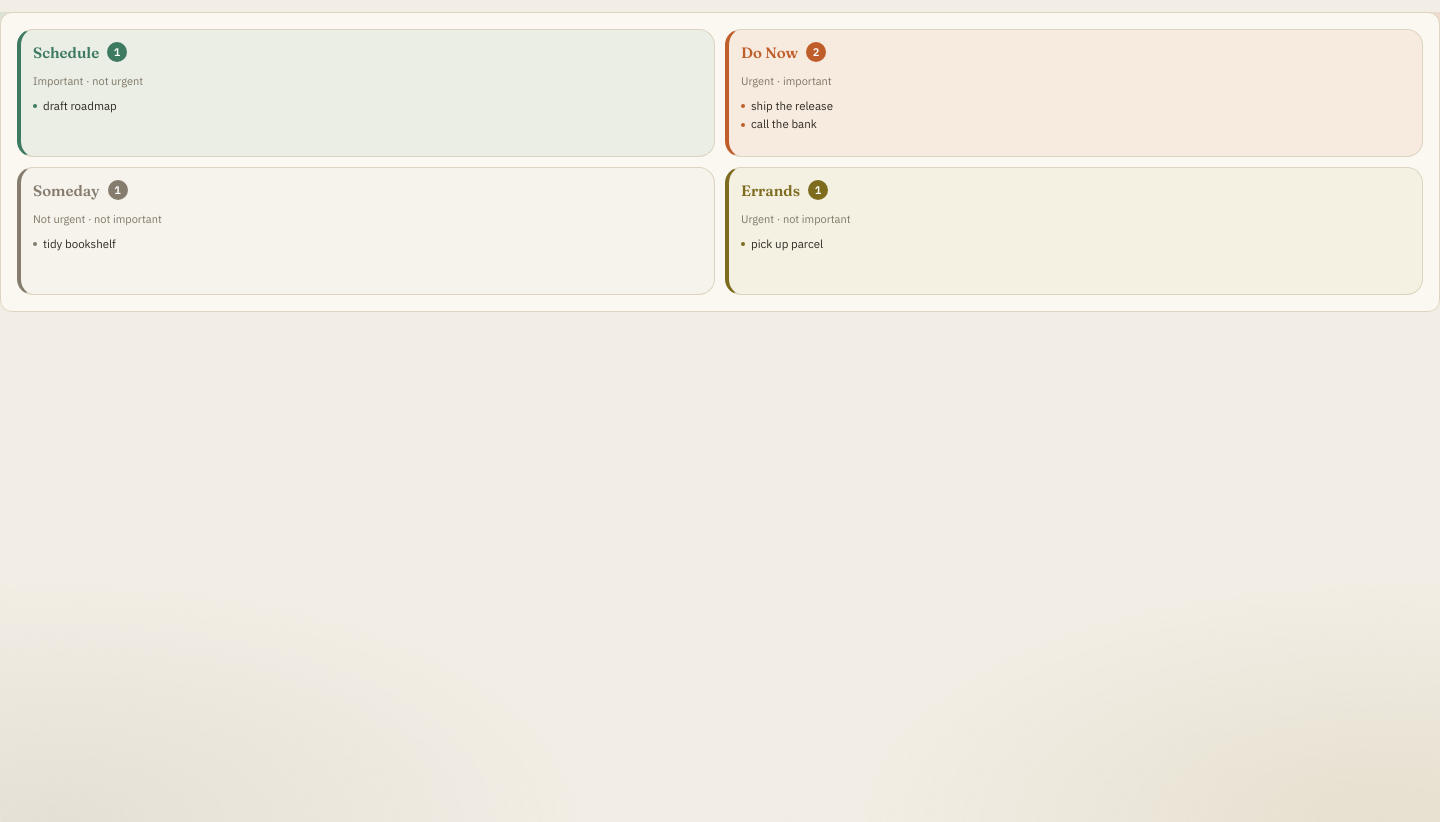
Test: MobileMatrix › the pager switches the focused quadrant without returning to the overview
The image size is (1440, 822).
Step 1. Click the button with aria-label "Schedule, 1 task" → (66, 52), box [17,29,715,157]
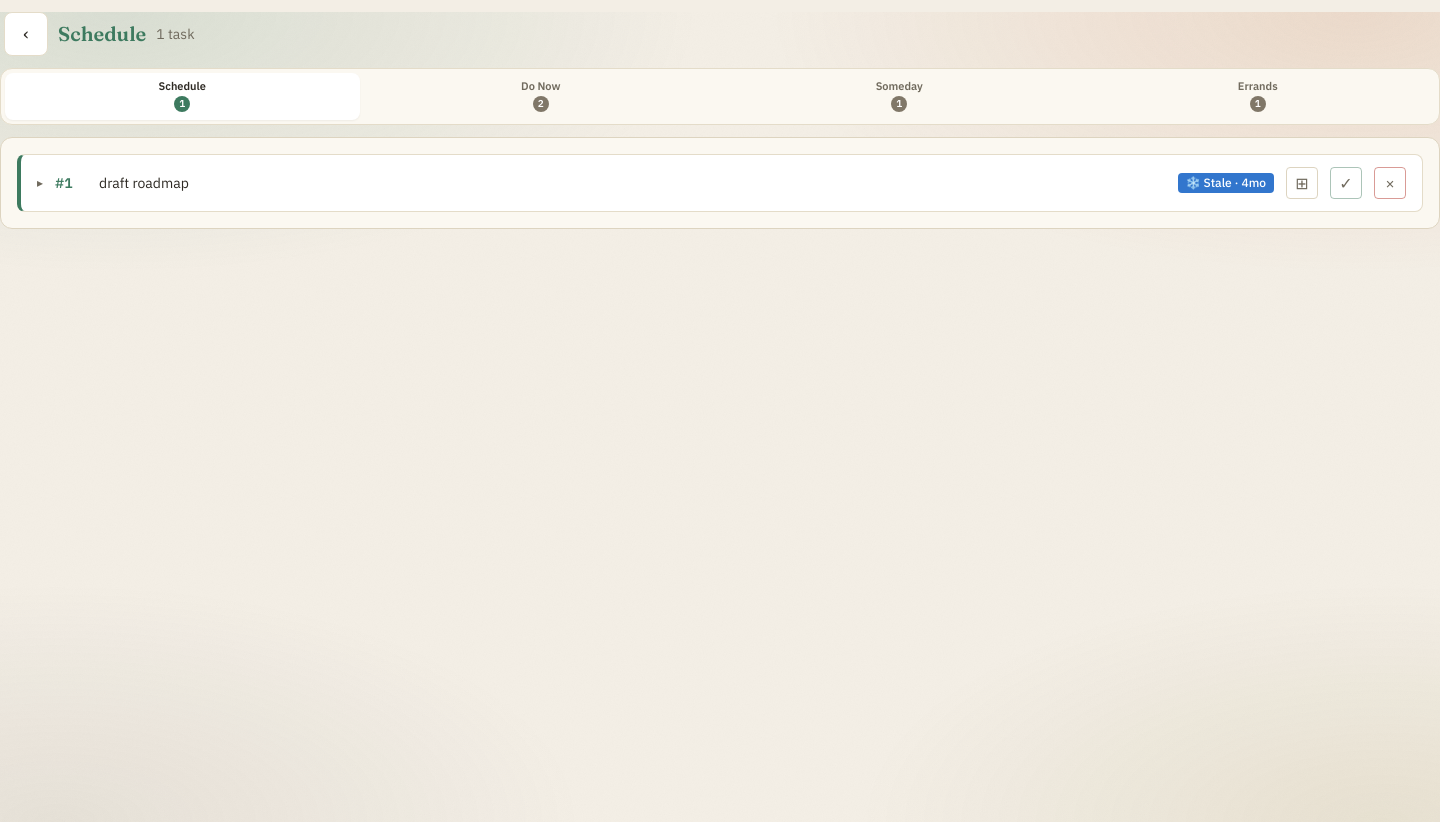
expect the button "▸ #1 draft roadmap ❄️ Stale · 4mo" is shown: met, box [37,173,1274,193]
The pager (nav "Quadrants") lets you jump straight to Errands.
Step 2. Click the button "Errands 1" → (1258, 96), box [1080,73,1435,120]
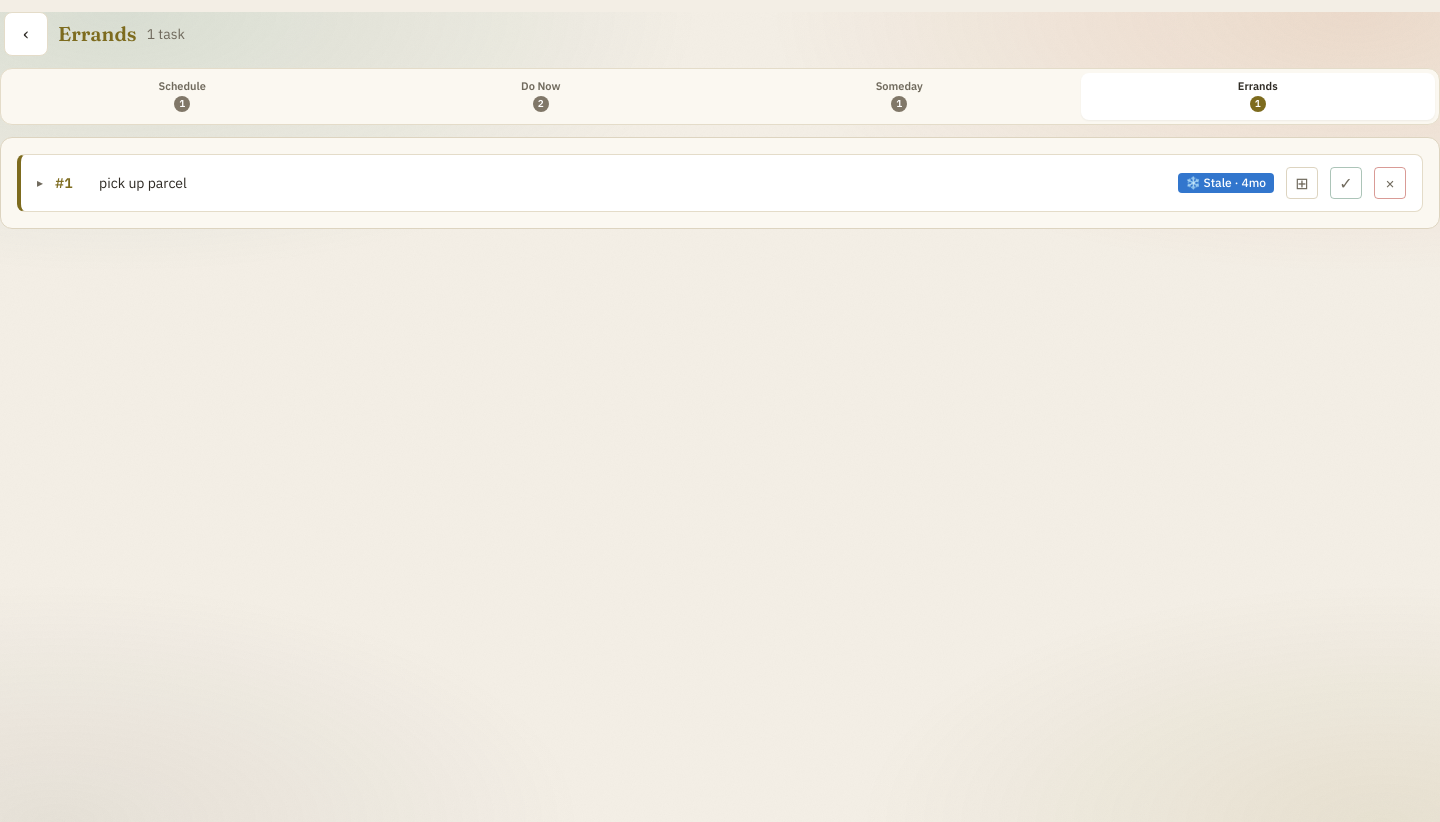
expect the button "▸ #1 pick up parcel ❄️ Stale · 4mo" is shown: met, box [37,173,1274,193]
expect the button "draft roadmap" is gone: met
